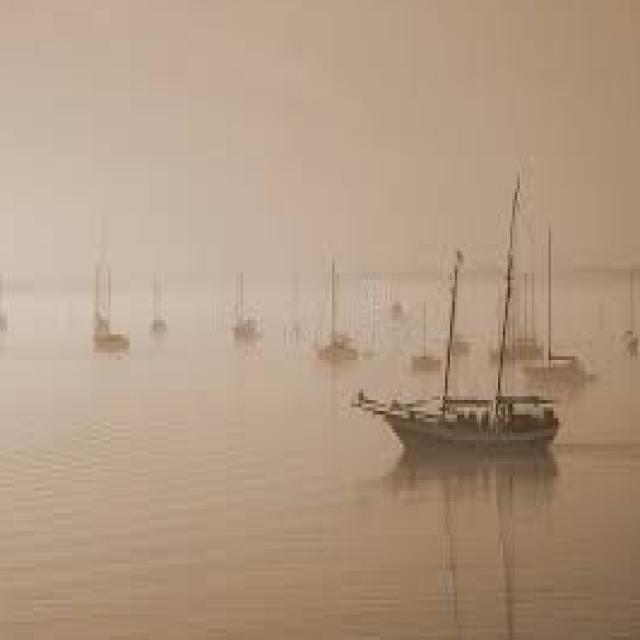fishing boat: (356, 251, 552, 468), (305, 267, 356, 364), (80, 257, 131, 348), (221, 268, 262, 346)
